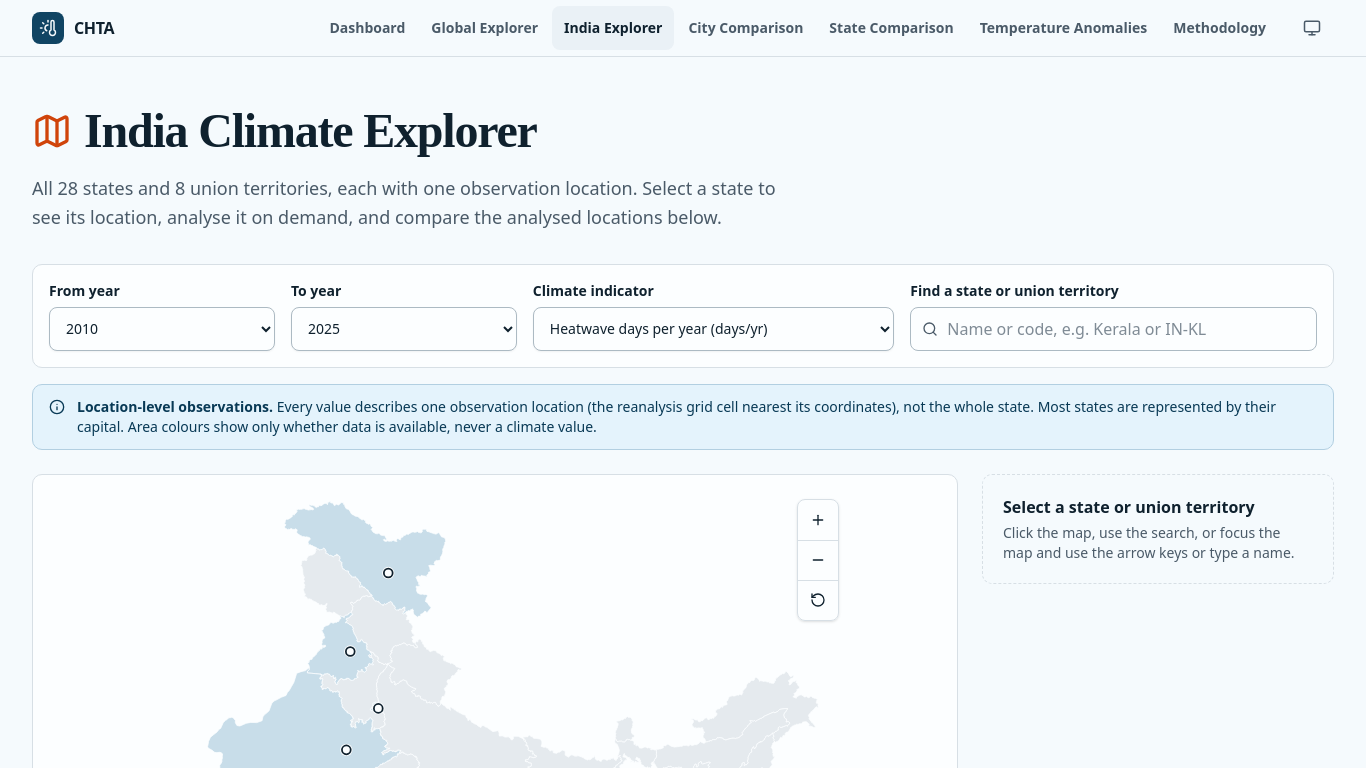
Test: routes › loads the catalog once per session across pages
This screenshot has width=1366, height=768.
Click the link "State Comparison". click: click(891, 28)
box: [829,18,954,37]
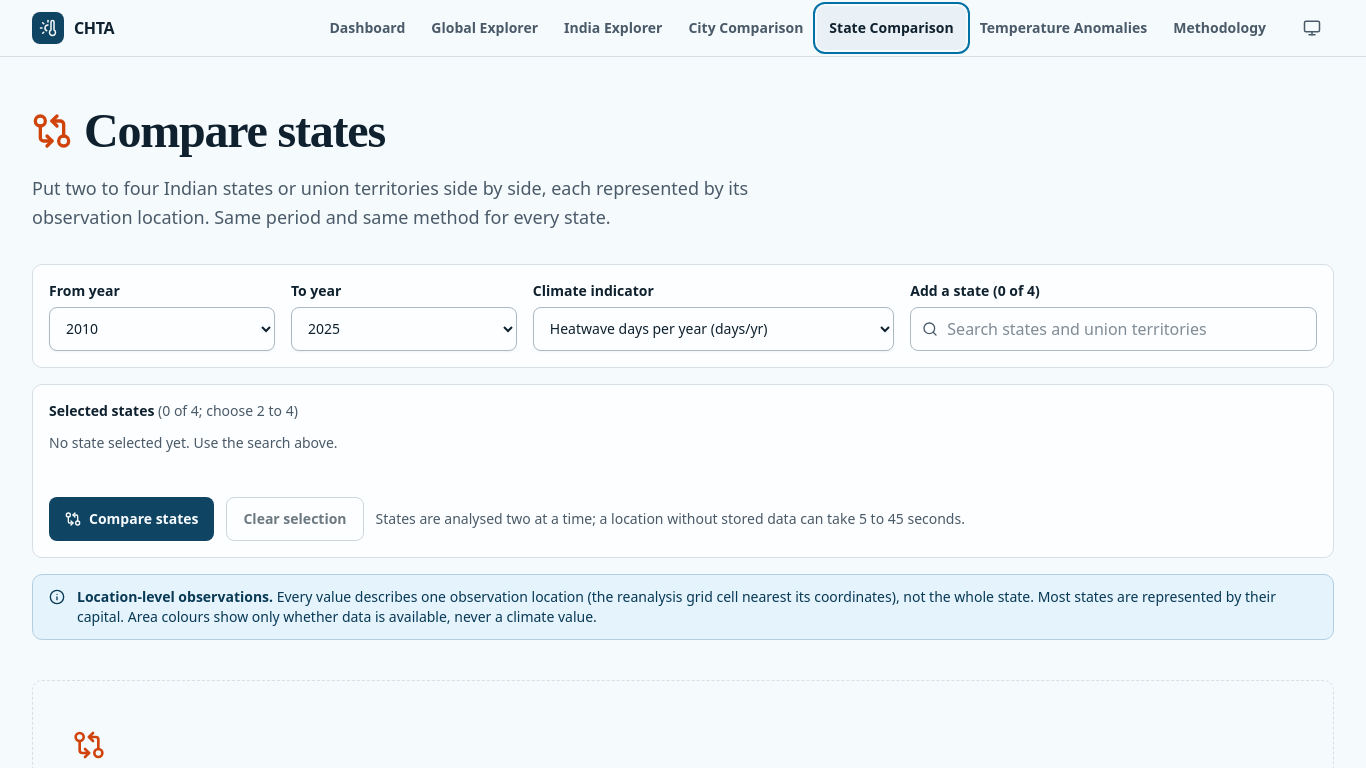
Check: the heading "Compare states" is shown, box [32,104,385,157]
